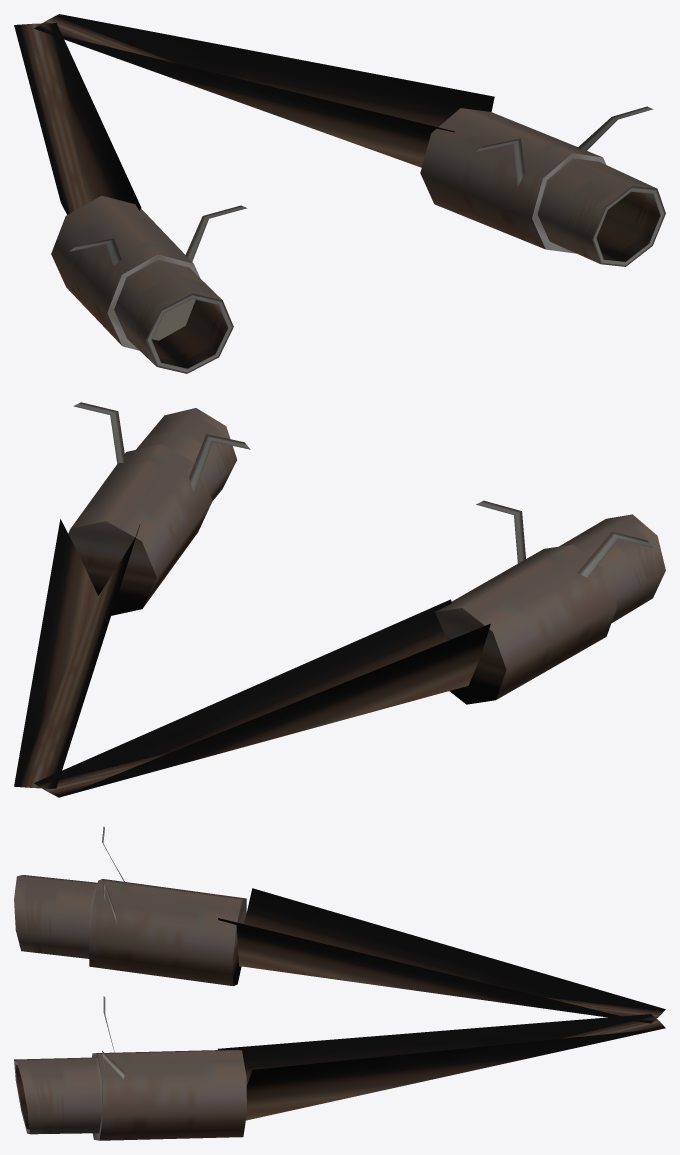
File: exh_a_st.glb
3 renders of one model, top to bottom at view 1: azimuth 30°, elevation 25°; view 2: azimuth 150°, elevation 25°; view 3: azimuth 270°, elevation 25°, orthographic. The views are drawn at different scales.
Visible parts, largest first — view 1: exh_a_st; view 2: exh_a_st; view 3: exh_a_st.
Part boxes in pixels (x1,y1,x2,y2): exh_a_st: (14,14,665,373); exh_a_st: (14,402,665,797); exh_a_st: (14,826,665,1140).
Bounding box in the file's own units: 1.19 × 0.2594 × 1.34.
Materials: 1 (1 with a texture image).
